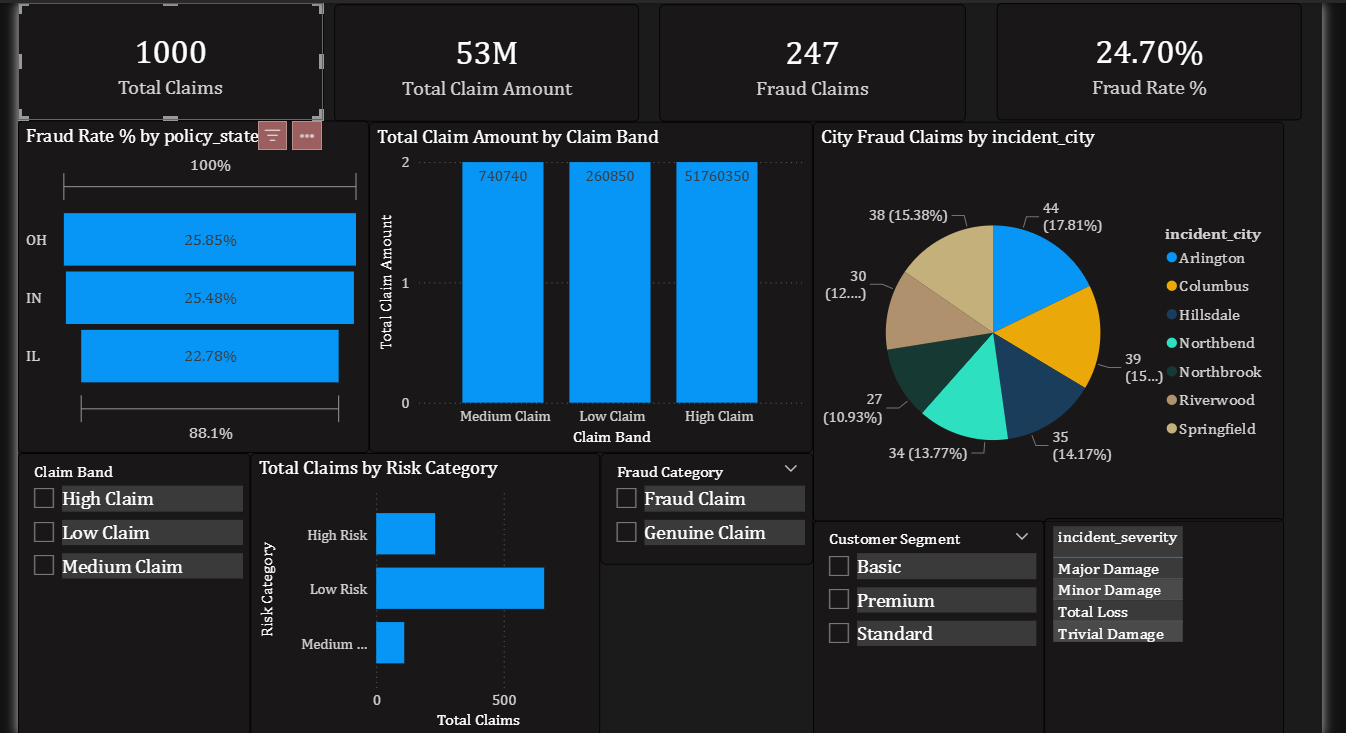

The dashboard page shown, as its layout file describes it:
{"tool":"powerbi","page":{"name":"Dashboard","canvas":[1280,720],"ordinal":0},"visuals":[{"type":"card","fields":{"Values":["Cleaned dataset.Total Claim Amount"]},"box":[310.4,1.2,299.4,115.3],"z":0},{"type":"card","fields":{"Values":["Cleaned dataset.Total Claims"]},"box":[0,0,299.6,115.4],"z":1000},{"type":"card","fields":{"Values":["Cleaned dataset.Fraud Claims"]},"box":[629.5,1.2,300.6,115.3],"z":2000},{"type":"card","fields":{"Values":["Cleaned dataset.Fraud Rate %"]},"box":[960.7,0,299.4,115.3],"z":3000},{"type":"funnel","fields":{"Category":["Cleaned dataset.policy_state"],"Y":["Cleaned dataset.Fraud Rate %"]},"box":[0,115.3,344.8,326.4],"z":4000},{"type":"clusteredColumnChart","fields":{"Category":["Cleaned dataset.Claim Band"],"Y":["Cleaned dataset.Total Claim Amount"]},"box":[344.8,116.6,412.3,362],"z":5000},{"type":"barChart","fields":{"Category":["Cleaned dataset.Risk Category"],"Y":["Cleaned dataset.Total Claims"]},"box":[228.2,478.5,343.6,241.7],"z":6000},{"type":"pieChart","fields":{"Category":["Cleaned dataset.incident_city"],"Y":["Cleaned dataset.City Fraud Claims"]},"box":[771.8,116.6,471.2,392.6],"z":7000},{"type":"slicer","fields":{"Values":["Cleaned dataset.Fraud Category"]},"box":[571.8,478.5,168.1,109.2],"z":8000},{"type":"slicer","fields":{"Values":["Cleaned dataset.Claim Band"]},"box":[0,452.8,198.8,229.4],"z":9000},{"type":"slicer","fields":{"Values":["Cleaned dataset.Customer Segment"]},"box":[757.1,569.3,227,136.2],"z":10000},{"type":"tableEx","fields":{"Values":["Cleaned dataset.incident_severity"]},"box":[1044.2,569.4,236.1,150.5],"z":11000}]}

Visuals, with their boxes on the page's 1280x720 design canvas (x1, y1, x2, y2). These are canvas units, not pixel positions in the 1346x733 screenshot, which may show the page scaled, cropped or inside an application window:
card - Cleaned dataset.Total Claim Amount: bbox(310, 1, 610, 116)
card - Cleaned dataset.Total Claims: bbox(0, 0, 300, 115)
card - Cleaned dataset.Fraud Claims: bbox(630, 1, 930, 116)
card - Cleaned dataset.Fraud Rate %: bbox(961, 0, 1260, 115)
funnel - Cleaned dataset.policy_state x Cleaned dataset.Fraud Rate %: bbox(0, 115, 345, 442)
clusteredColumnChart - Cleaned dataset.Claim Band x Cleaned dataset.Total Claim Amount: bbox(345, 117, 757, 479)
barChart - Cleaned dataset.Risk Category x Cleaned dataset.Total Claims: bbox(228, 478, 572, 720)
pieChart - Cleaned dataset.incident_city x Cleaned dataset.City Fraud Claims: bbox(772, 117, 1243, 509)
slicer - Cleaned dataset.Fraud Category: bbox(572, 478, 740, 588)
slicer - Cleaned dataset.Claim Band: bbox(0, 453, 199, 682)
slicer - Cleaned dataset.Customer Segment: bbox(757, 569, 984, 706)
tableEx - Cleaned dataset.incident_severity: bbox(1044, 569, 1280, 720)
